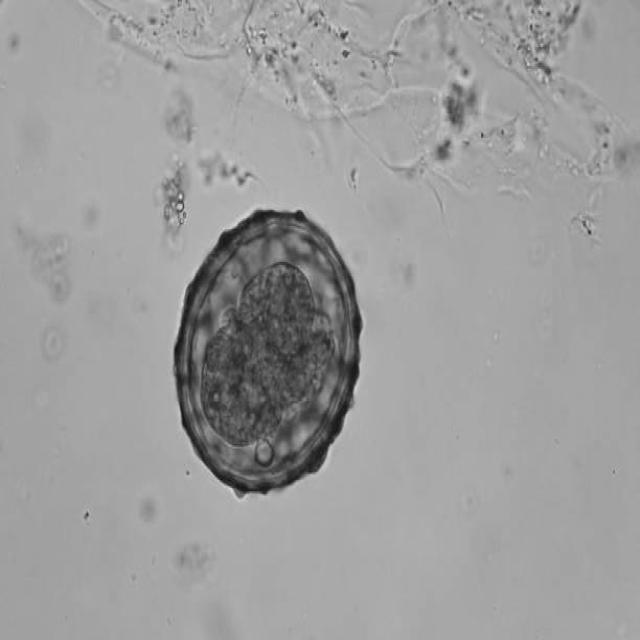Ascaris Lumbricoides: (166, 196, 372, 511)
